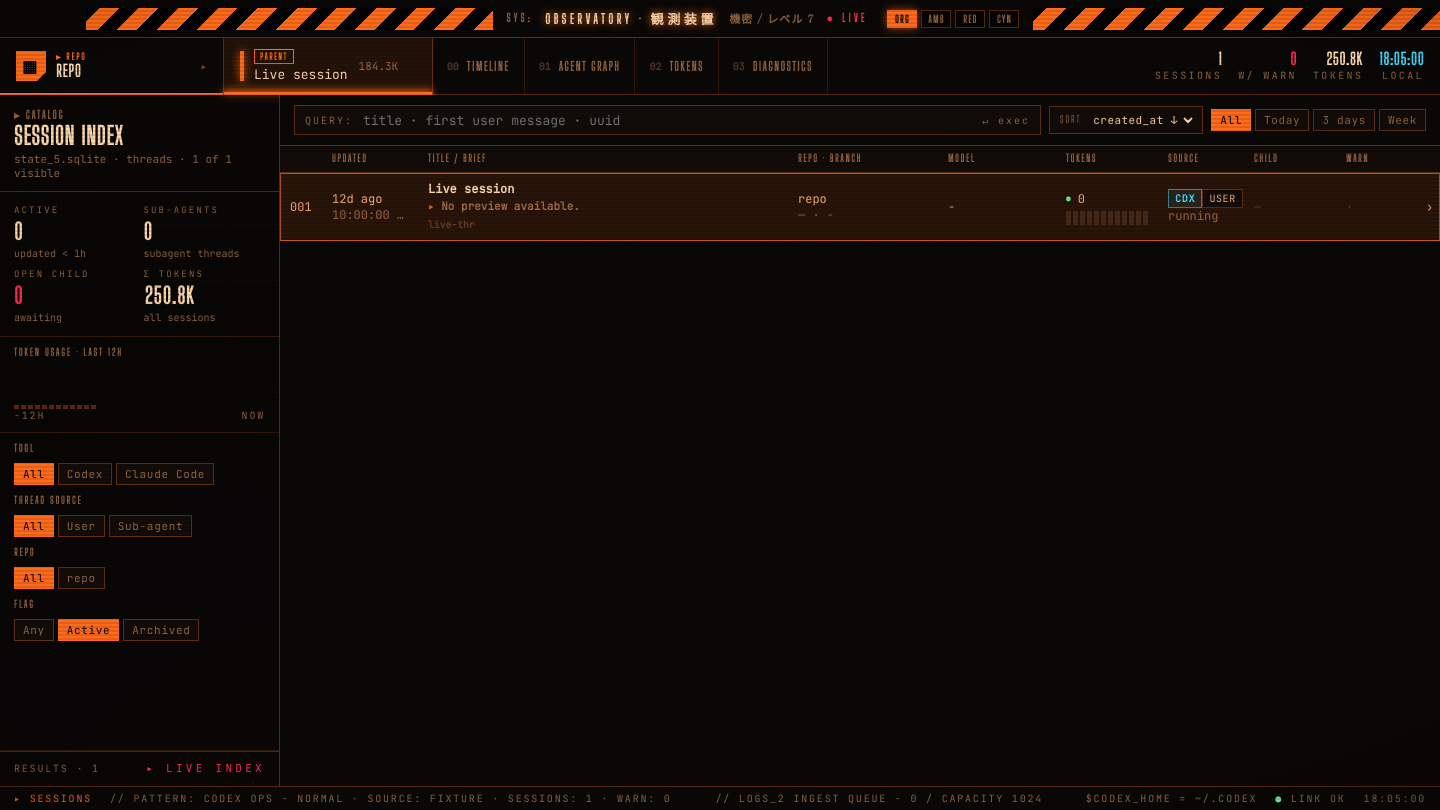
App live updates › appends a timeline delta pushed over the live stream into the open timeline
What coordinates should you click on to do the following:
click the button "00 Timeline"
I would click on:
 (479, 66)
Its box is [433, 38, 525, 94].
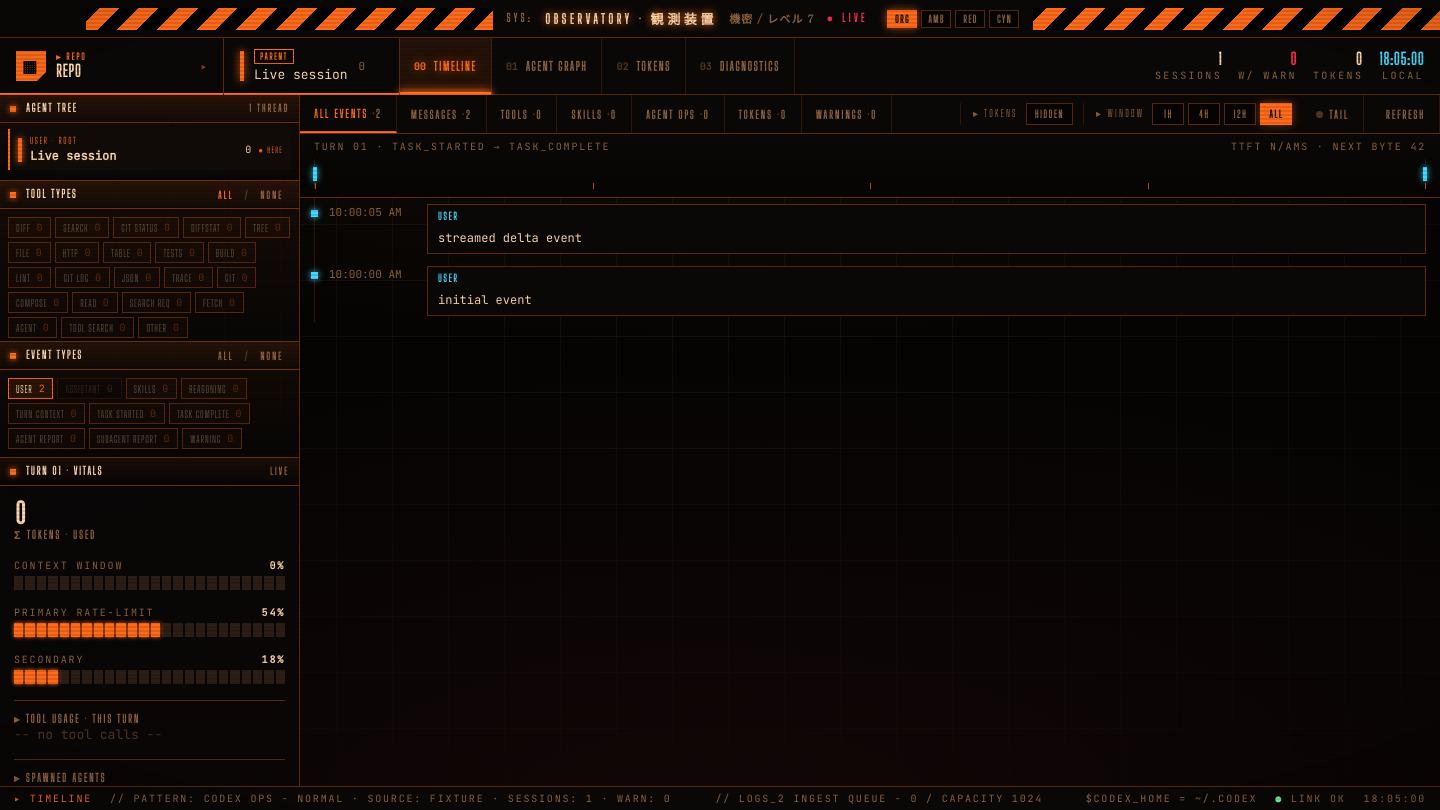
Expected: the text "initial event" is shown, [438, 292, 532, 308]
Expected: the text "streamed delta event" is shown, [438, 230, 582, 246]
